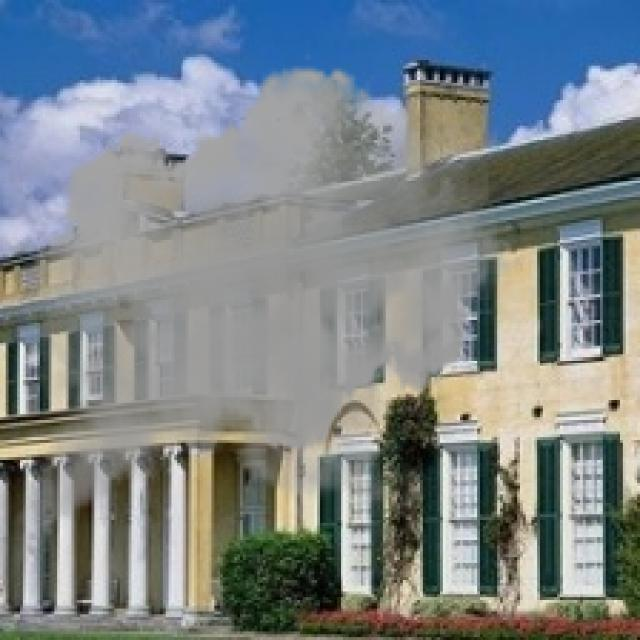smoke: (3, 51, 526, 588)
